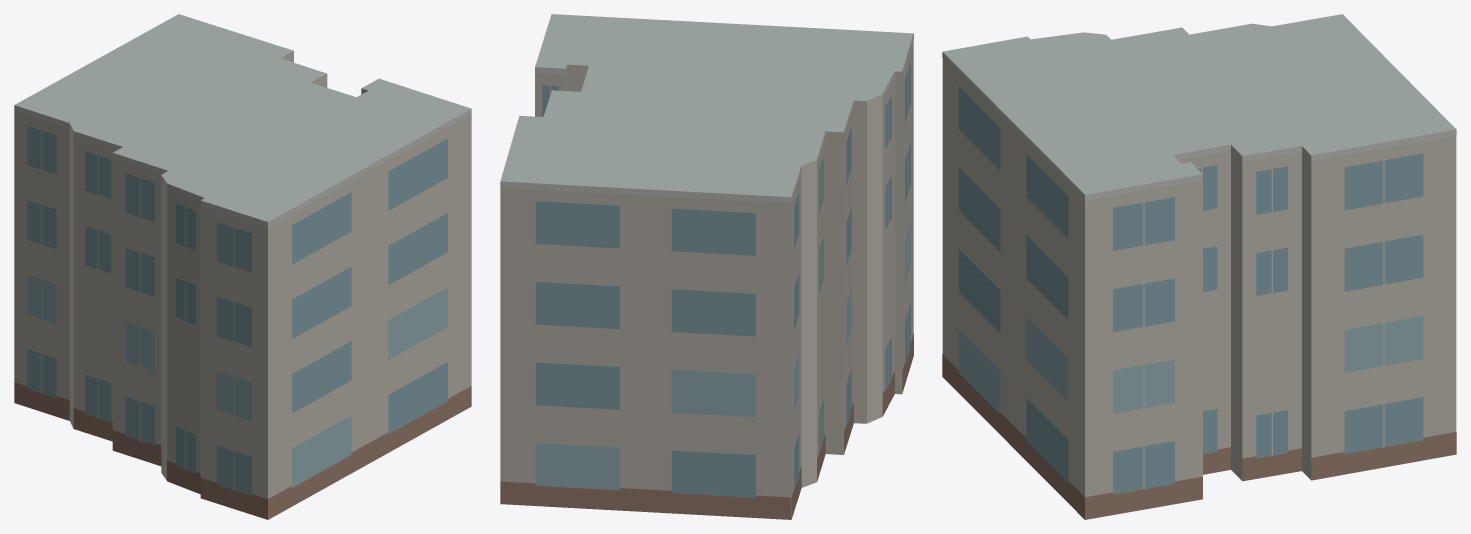
Rendered from survey-upis-32611728.glb.
The picture shows the model from 3 angles, left to right: view 1: azimuth 30°, elevation 25°; view 2: azimuth 150°, elevation 25°; view 3: azimuth 270°, elevation 25°; orthographic projection. The views are drawn at different scales.
Parts seen in each view (by area): view 1: survey-upis-32611728.tmp; view 2: survey-upis-32611728.tmp; view 3: survey-upis-32611728.tmp.
Part boxes in pixels (bbox=[...]): survey-upis-32611728.tmp: bbox=[14, 14, 471, 519]; survey-upis-32611728.tmp: bbox=[500, 14, 913, 519]; survey-upis-32611728.tmp: bbox=[942, 14, 1456, 519].
Bounding box in the file's own units: 15.28 × 12.8 × 18.35.
